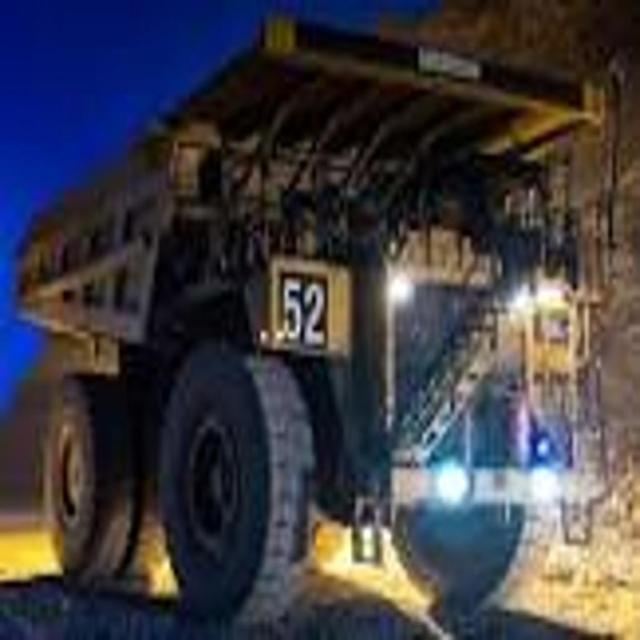dump_truck: (11, 19, 613, 640)
